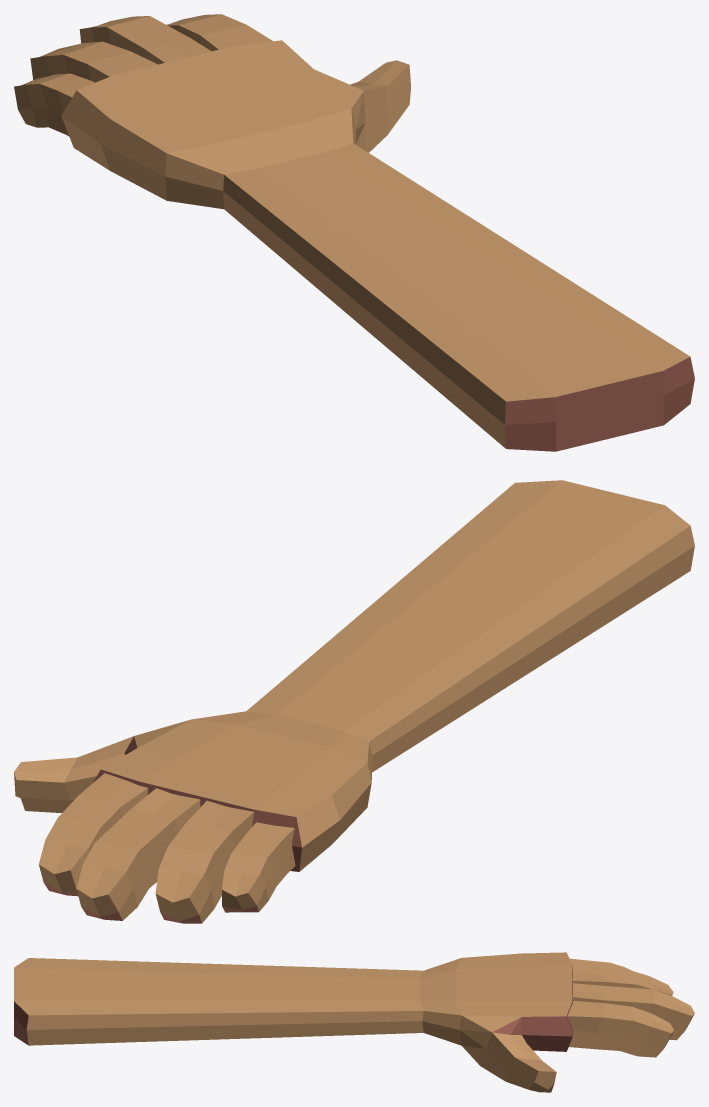
The model's file is MAO.fbx.
3 views of the same model, one above another, from view 1: azimuth 30°, elevation 25°; view 2: azimuth 150°, elevation 25°; view 3: azimuth 270°, elevation 25° (orthographic). The views are drawn at different scales.
Visible parts, largest first — view 1: Plane; view 2: Plane; view 3: Plane.
Boxes of the visible parts, x1,y1,x2,y2 form: Plane: (14,14,694,451); Plane: (14,480,694,923); Plane: (14,952,694,1092).
Bounding box in the file's own units: 251 × 59.72 × 721.
